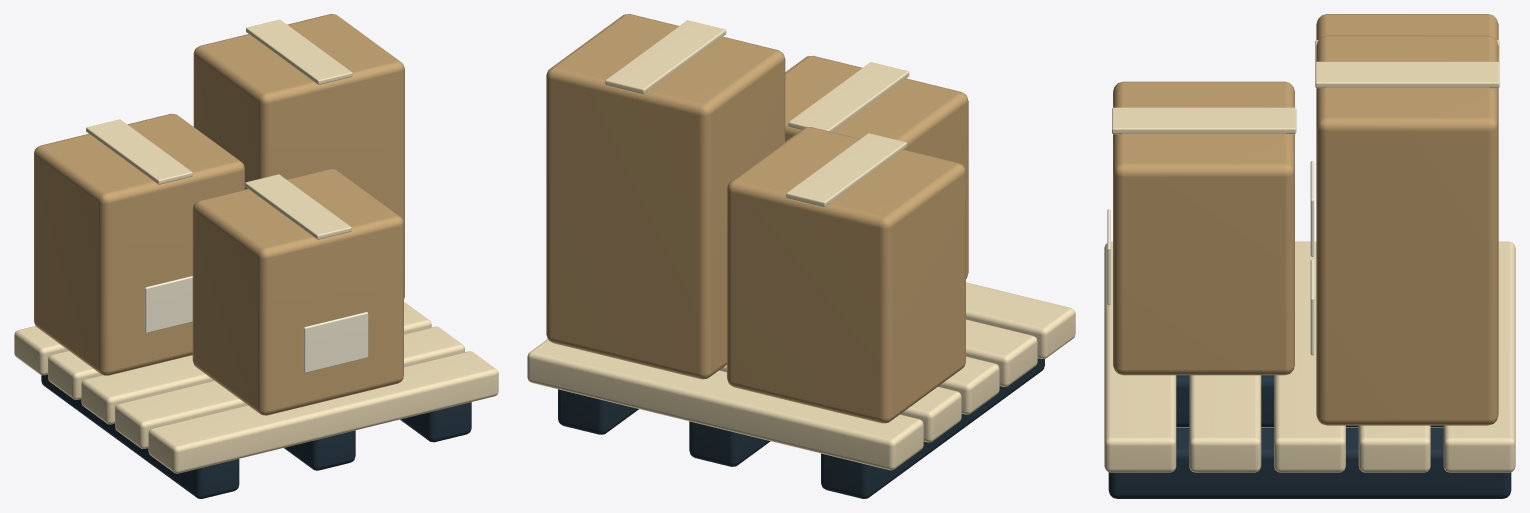
Rendered from pallet.glb.
3 renders of one model, left to right at view 1: azimuth 30°, elevation 25°; view 2: azimuth 150°, elevation 25°; view 3: azimuth 270°, elevation 25°, orthographic. The views are drawn at different scales.
Parts seen in each view (by area): view 1: Carton.002, Carton, Carton.001, Plank.004, Plank.003, Plank.002, Label.002, Skid, Tape.001, Tape.002, Tape, Label (+4 smaller); view 2: Carton.001, Carton, Plank, Carton.002, Plank.004, Skid, Tape.001, Tape, Tape.002, Plank.003, Skid.001, Skid.002 (+2 smaller); view 3: Carton.001, Carton.002, Skid.002, Plank.002, Plank.004, Plank.003, Plank, Tape.001, Tape.002, Carton, Plank.001, Skid.001 (+2 smaller).
Part boxes in pixels (<box>): Carton.002: <box>192,168,403,415</box>; Carton: <box>34,113,244,375</box>; Carton.001: <box>193,14,404,298</box>; Plank.004: <box>148,351,498,473</box>; Plank.003: <box>115,326,464,448</box>; Plank.002: <box>81,302,431,424</box>; Label.002: <box>303,312,368,372</box>; Skid: <box>41,374,239,498</box>; Tape.001: <box>246,19,352,84</box>; Tape.002: <box>245,174,351,239</box>; Tape: <box>86,119,192,184</box>; Label: <box>144,276,192,332</box>; Carton.001: <box>546,14,785,379</box>; Carton: <box>727,127,965,423</box>; Plank: <box>527,339,923,470</box>; Carton.002: <box>785,55,968,278</box>; Plank.004: <box>966,282,1075,358</box>; Skid: <box>821,358,1044,498</box>; Tape.001: <box>605,20,726,94</box>; Tape: <box>786,133,906,207</box>; Tape.002: <box>788,62,909,131</box>; Plank.003: <box>966,319,1037,386</box>; Skid.001: <box>689,421,770,466</box>; Skid.002: <box>558,389,638,434</box>; Carton.001: <box>1316,35,1498,425</box>; Carton.002: <box>1113,81,1294,375</box>; Skid.002: <box>1108,427,1511,498</box>; Plank.002: <box>1274,241,1345,472</box>; Plank.004: <box>1104,241,1176,472</box>; Plank.003: <box>1189,375,1261,472</box>; Plank: <box>1443,241,1515,472</box>; Tape.001: <box>1315,61,1499,88</box>; Tape.002: <box>1112,107,1296,134</box>; Carton: <box>1316,14,1498,39</box>; Plank.001: <box>1358,425,1430,472</box>; Skid.001: <box>1176,375,1443,427</box>.
Size of the model in its own units: 1.12 by 1.03 by 0.97.
